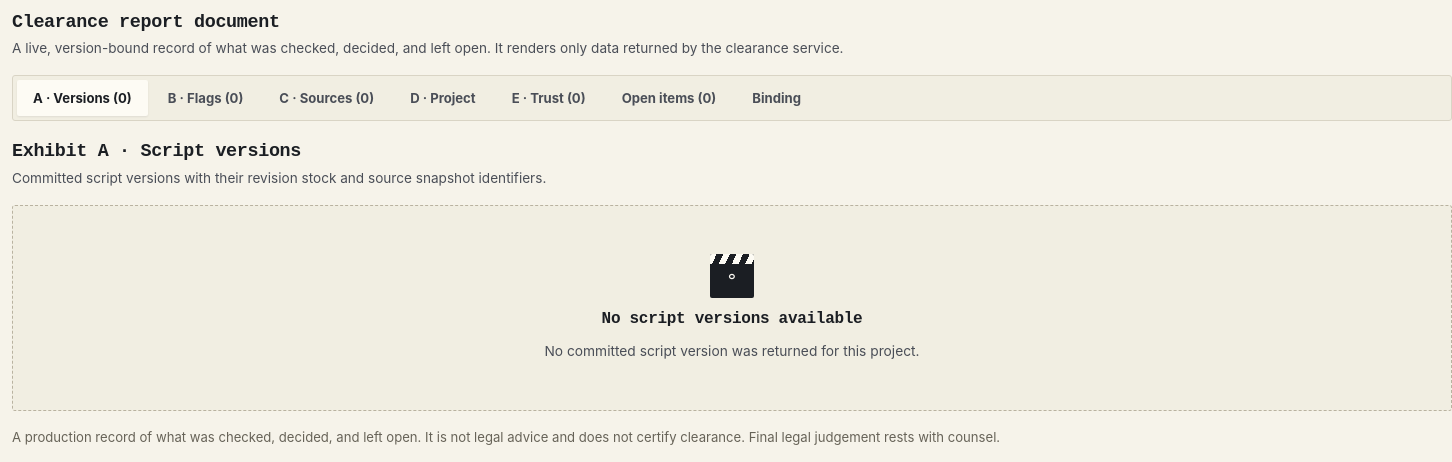
Test case: ReportDocument renders only real data › shows the released snapshot's frozen content hash in the binding tab
Click the button "Binding": (777, 98) [736, 80, 817, 116]
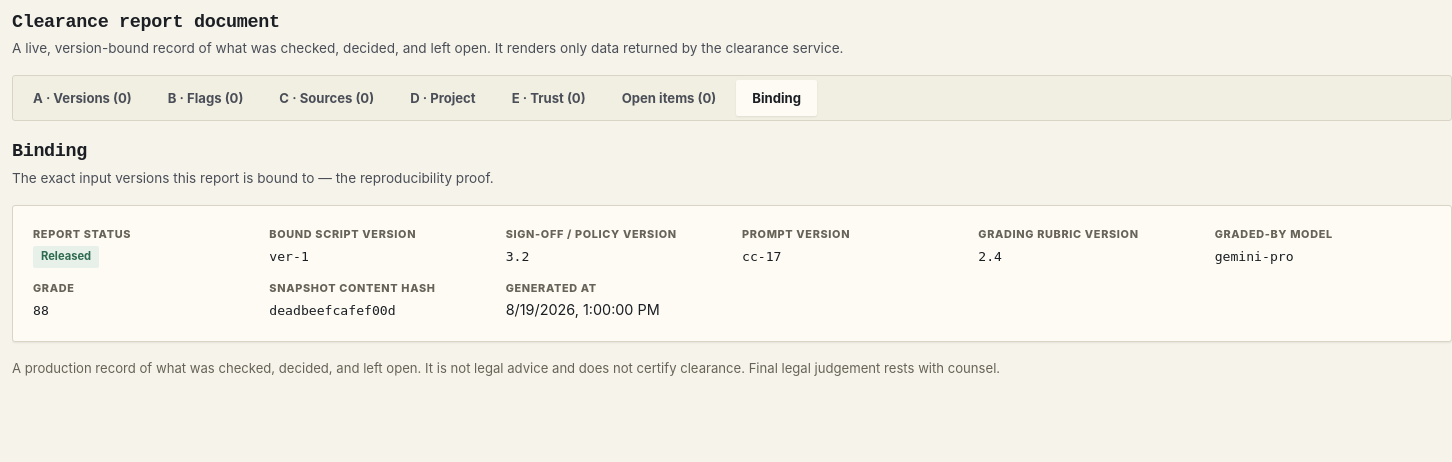
Check: the text "deadbeefcafef00d" is shown, box [269, 303, 396, 318]
Check: the text "gemini-pro" is shown, box [1215, 249, 1294, 264]
Check: the text "3.2" is shown, box [506, 249, 529, 264]
